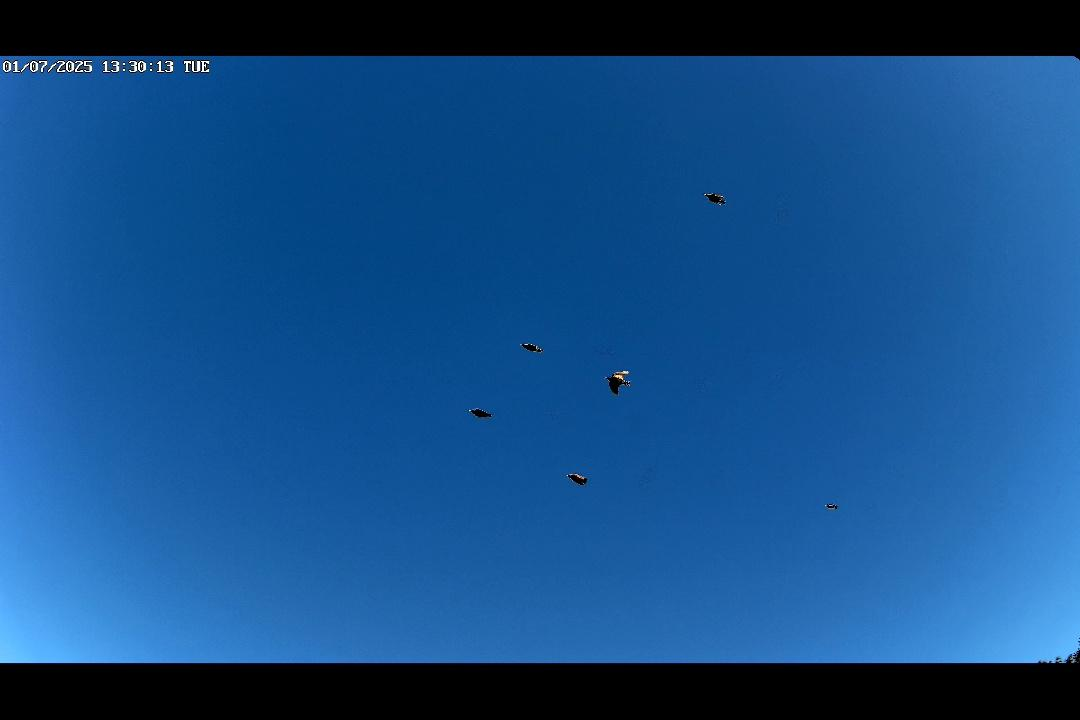WildLife: (590, 364, 657, 399), (687, 181, 739, 214), (550, 464, 602, 490), (512, 330, 553, 360), (462, 393, 499, 426), (820, 493, 848, 516)
